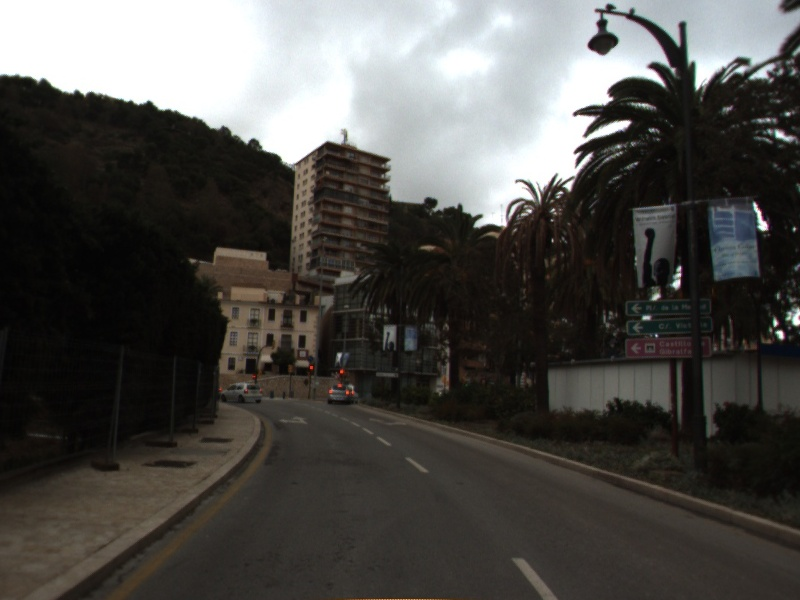STRAIGHT_LEFT: (277, 414, 310, 426)
STRAIGHT_RIGHT: (368, 416, 409, 429)
